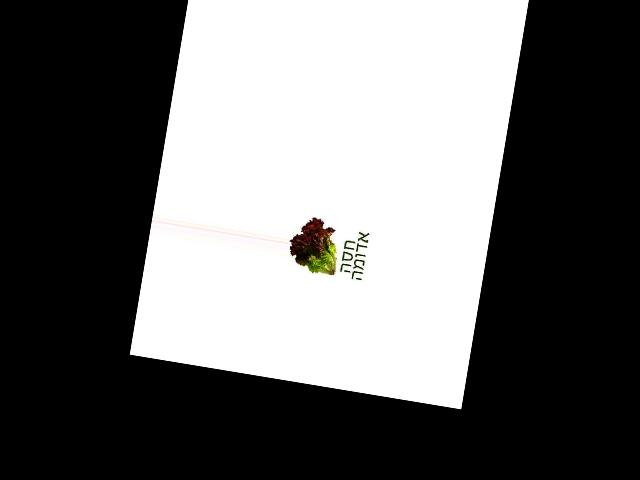lettuce: (284, 212, 345, 282)
